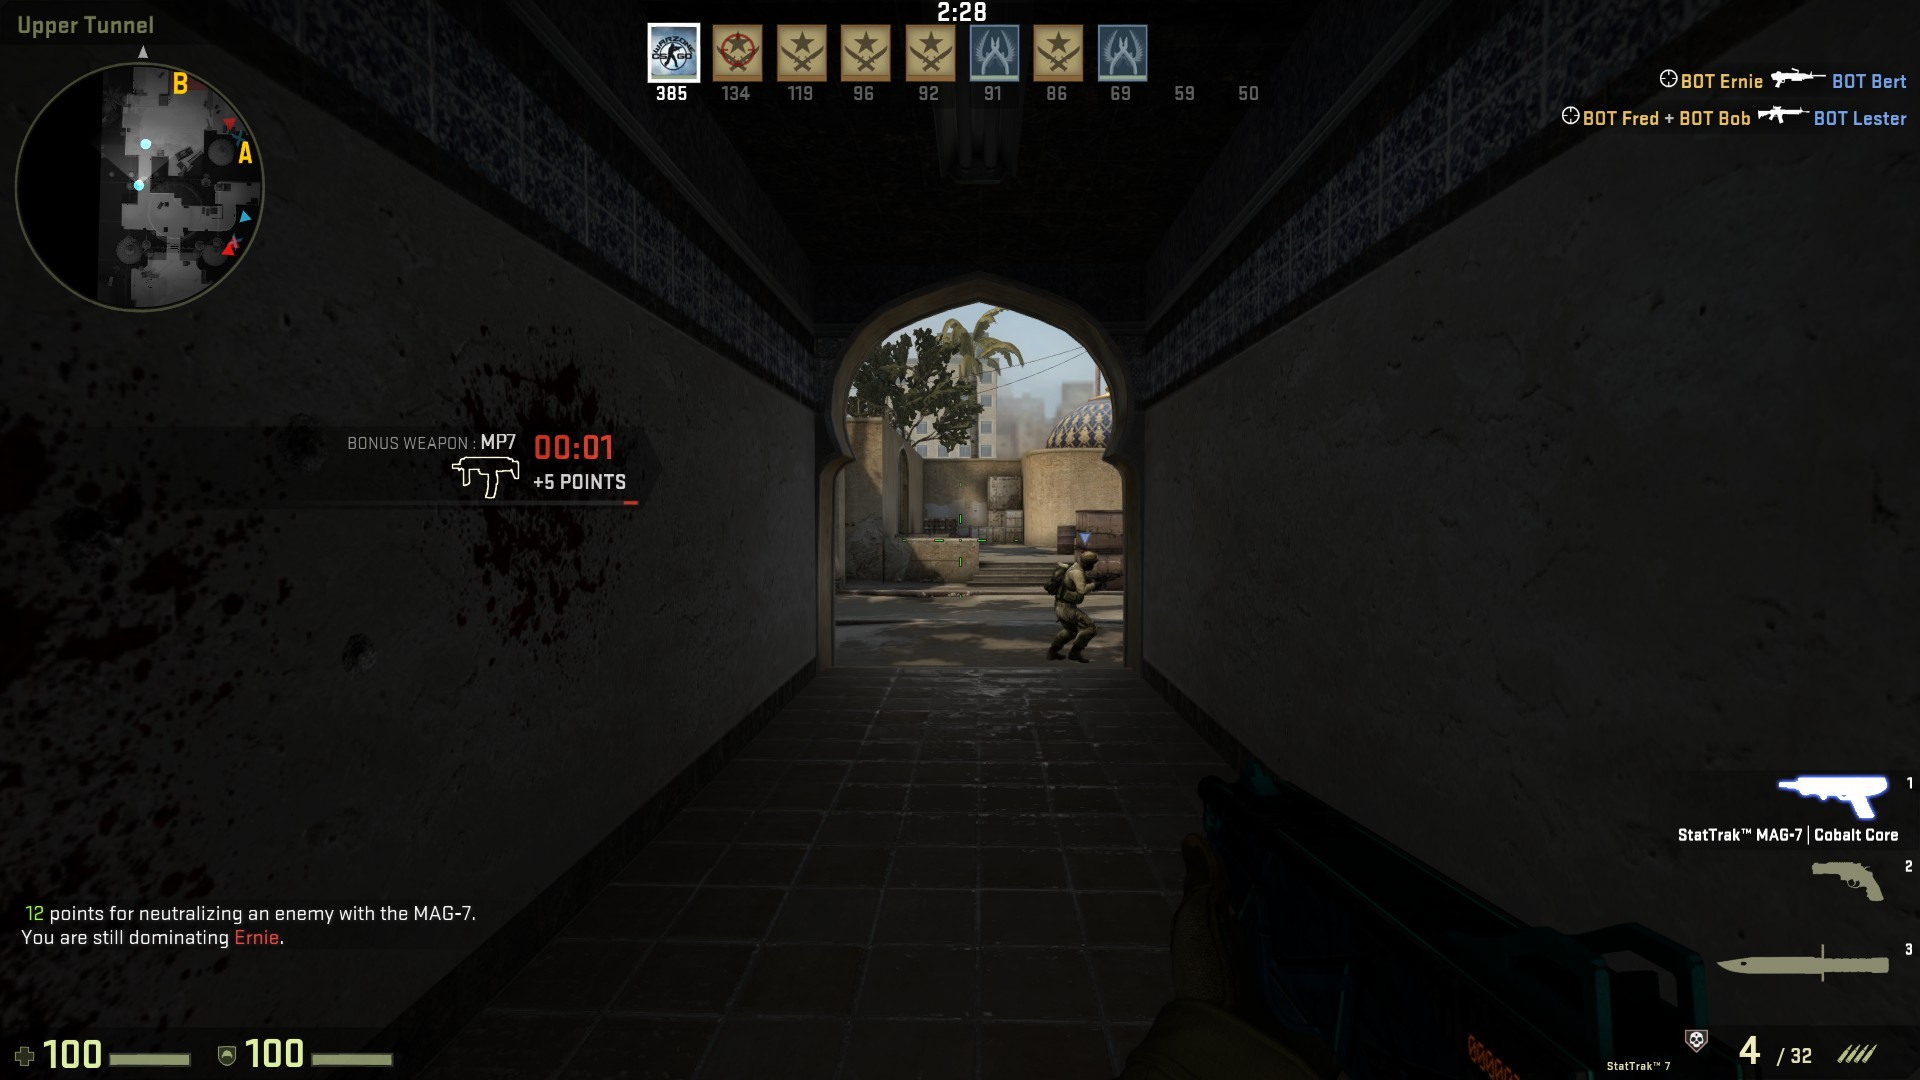c: (1046, 551, 1098, 666)
ch: (1073, 549, 1101, 574)
